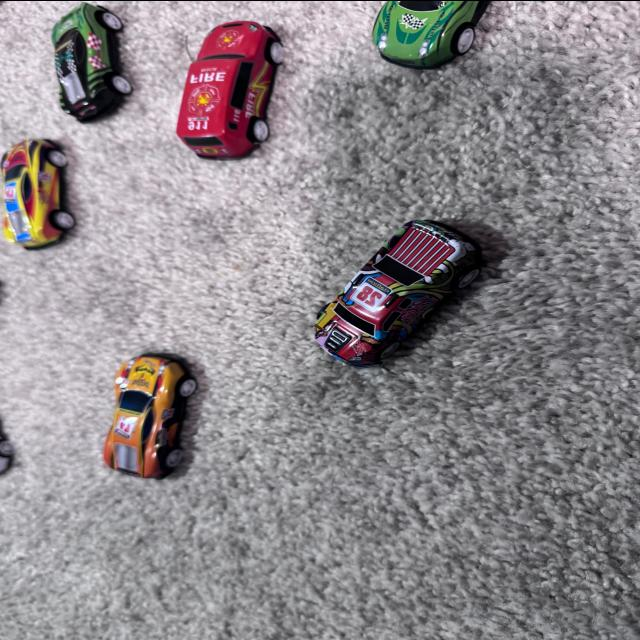car: (276, 182, 486, 374), (35, 0, 174, 146), (86, 342, 212, 485), (162, 14, 278, 164), (367, 0, 511, 115), (0, 129, 90, 248)
